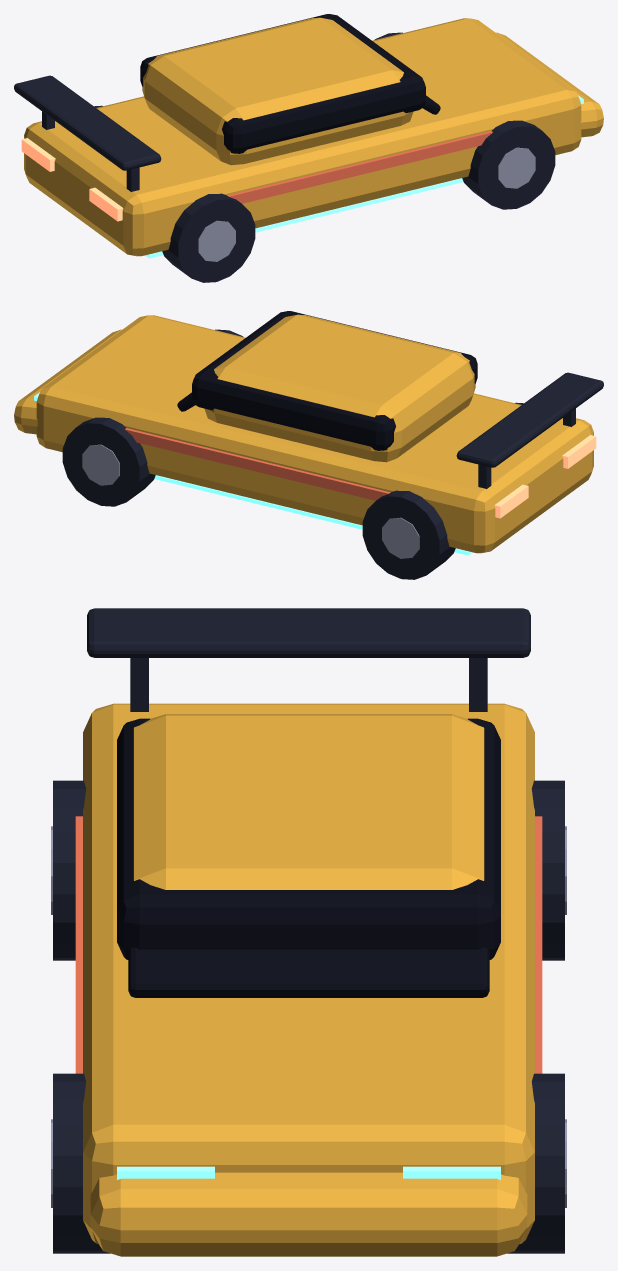
Rendered from sports_car.glb.
The picture shows the model from 3 angles, top to bottom: view 1: azimuth 30°, elevation 25°; view 2: azimuth 150°, elevation 25°; view 3: azimuth 270°, elevation 25°; orthographic projection. The views are drawn at different scales.
Visible parts, largest first — view 1: lower, cabin, glass, spoiler, wheel-1-1, wheel-11, stripe-1, nose, rim-1-1, rim-11, underglow, tail-1 (+1 smaller); view 2: lower, cabin, glass, spoiler, wheel1-1, wheel11, stripe1, nose, rim1-1, rim11, underglow, tail-1 (+1 smaller); view 3: lower, cabin, nose, glass, spoiler, windshield, wheel-11, wheel11, wheel-1-1, wheel1-1, stripe-1, stripe1 (+4 smaller).
Boxes of the visible parts, x1,y1,x2,y2 form: lower: [24, 18, 581, 256]; cabin: [142, 17, 413, 165]; glass: [140, 14, 425, 153]; spoiler: [14, 75, 161, 170]; wheel-1-1: [162, 193, 255, 282]; wheel-11: [462, 120, 555, 209]; stripe-1: [227, 131, 492, 203]; nose: [496, 32, 603, 137]; rim-1-1: [198, 220, 235, 261]; rim-11: [498, 147, 535, 188]; underglow: [145, 178, 463, 258]; tail-1: [89, 187, 123, 221]; lower: [36, 315, 593, 553]; cabin: [204, 314, 475, 462]; glass: [192, 311, 477, 450]; spoiler: [456, 372, 603, 467]; wheel1-1: [362, 490, 455, 579]; wheel11: [62, 417, 155, 506]; stripe1: [125, 428, 390, 500]; nose: [14, 329, 121, 434]; rim1-1: [382, 517, 419, 558]; rim11: [82, 444, 119, 485]; underglow: [154, 475, 472, 555]; tail-1: [562, 435, 596, 468]; lower: [83, 703, 534, 1244]; cabin: [133, 714, 484, 889]; nose: [90, 1172, 527, 1256]; glass: [117, 718, 500, 959]; spoiler: [87, 608, 530, 657]; windshield: [128, 947, 489, 997]; wheel-11: [53, 1073, 110, 1253]; wheel11: [507, 1073, 564, 1253]; wheel-1-1: [53, 780, 86, 960]; wheel1-1: [531, 780, 564, 960]; stripe-1: [75, 816, 82, 1073]; stripe1: [535, 816, 542, 1073].
Bounding box in the file's own units: 2.99 × 0.83 × 1.37.
